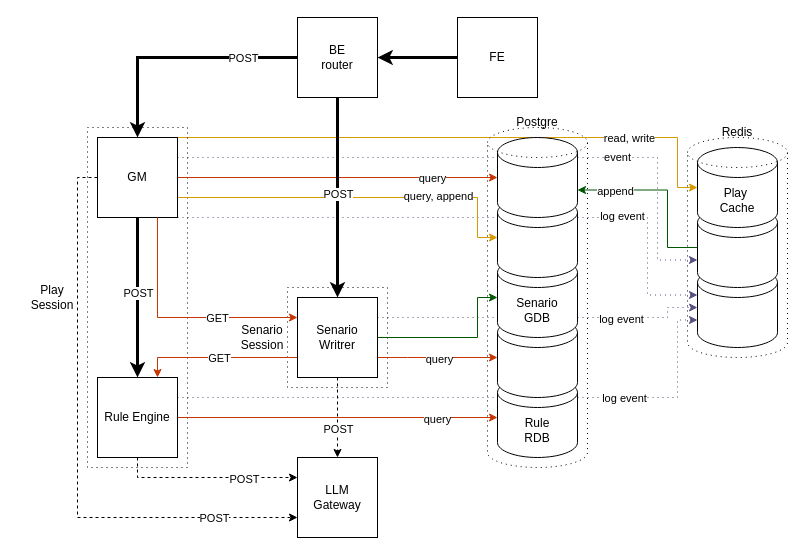
This 805x555 diagram has some shape labels left out. Each missing label, with the centre of its shape:
"Log Event Que" belongs at [737,307].
"Play Event Que" belongs at [737,247].
"Play Log R+VDB" belongs at [537,177].
"State GDB" belongs at [537,237].
"World Setting" belongs at [537,357].
